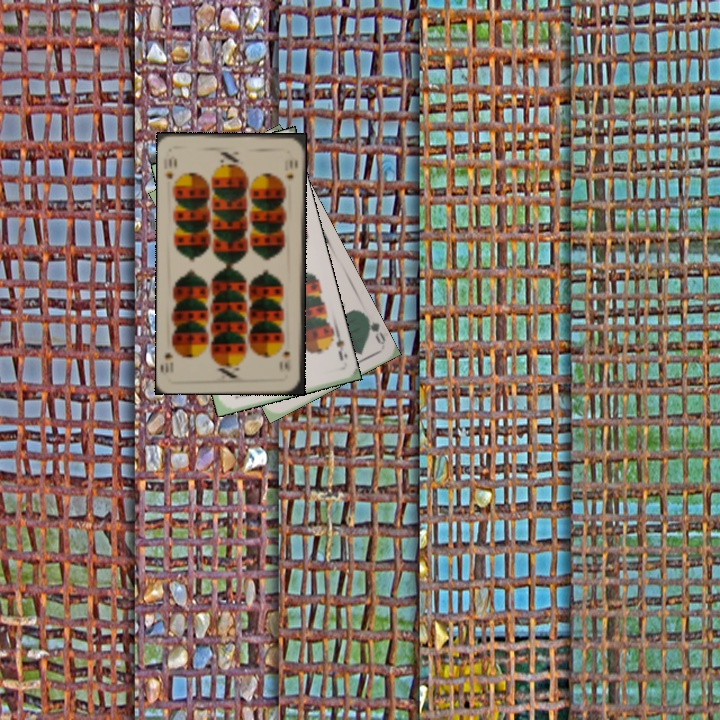GO: (360, 310, 388, 347)
S10: (161, 151, 180, 181), (280, 347, 293, 374)
S9: (325, 326, 347, 364)
